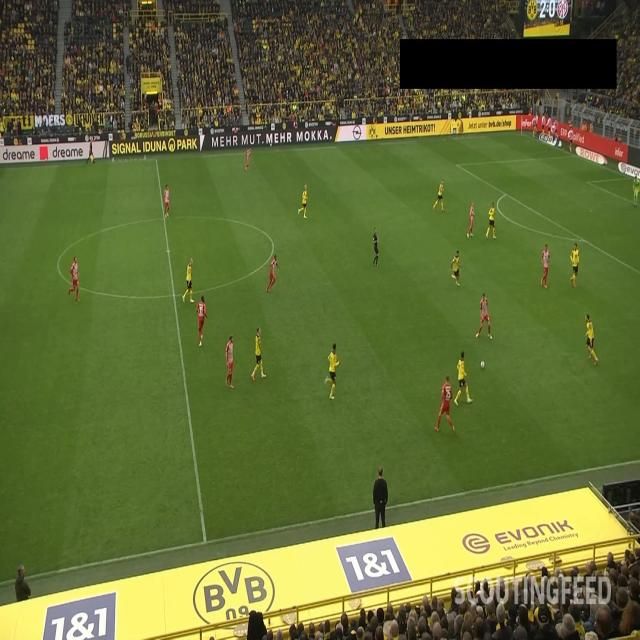ball: (480, 359, 486, 370)
